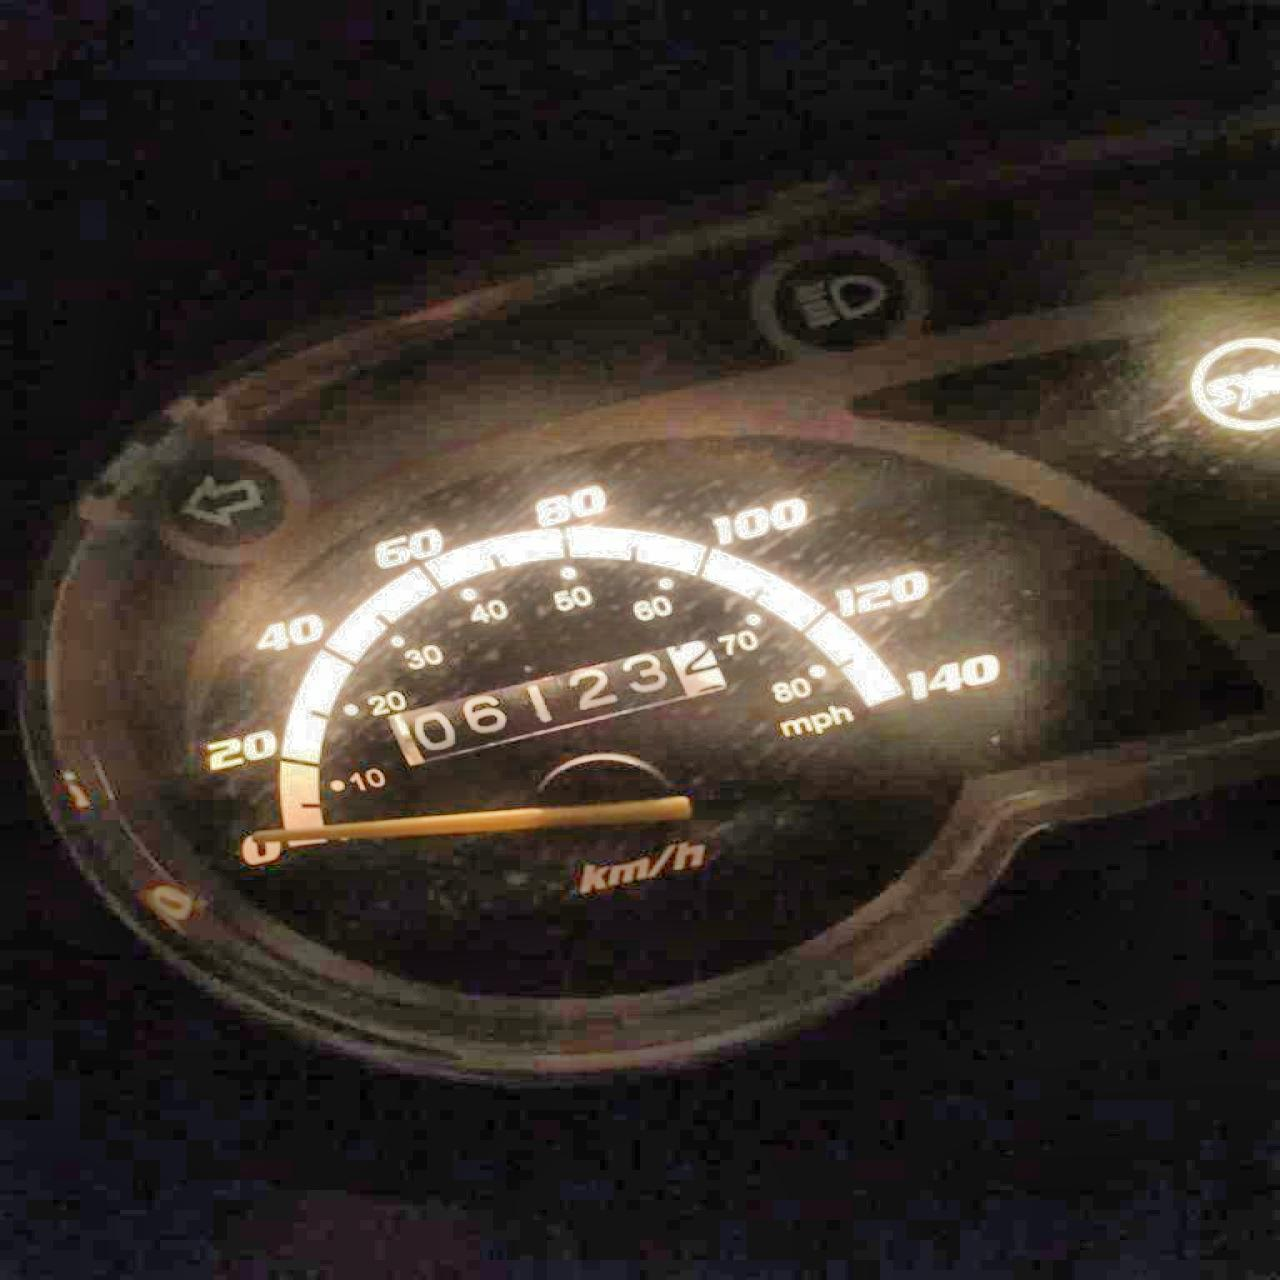0: (407, 710, 454, 753), (383, 688, 404, 712), (423, 642, 443, 667)
1: (522, 678, 557, 727)
2: (668, 635, 719, 685), (565, 665, 615, 710)
3: (617, 651, 666, 695), (402, 647, 422, 673)
6: (458, 689, 505, 735)
7: (719, 632, 735, 654)
odometer: (382, 635, 734, 765)
